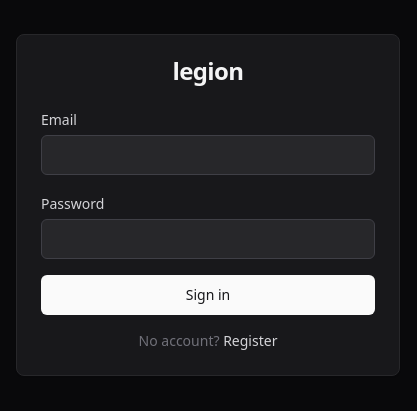
Test: Login – error handling › re-enables button after error
The image size is (417, 411).
Type "x@x.com" into the field labelled "Email" at (208, 155), box [41,135,375,175]
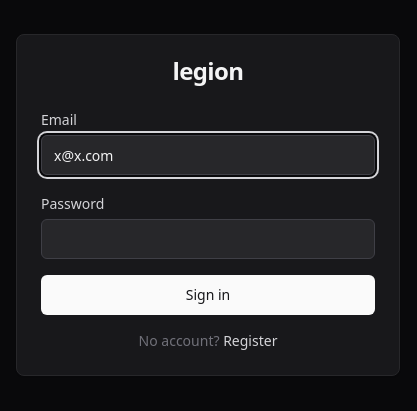
Type "wrong" into the password field labelled "Password" at (208, 239), box [41,219,375,259]
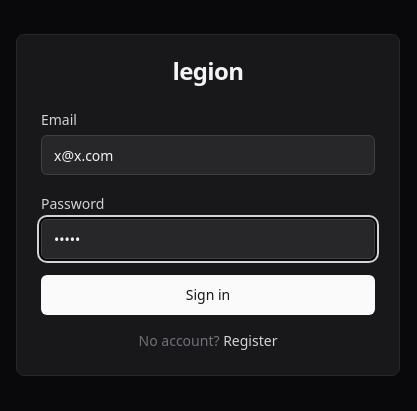
Submit the form "Email Password Sign in No account? Register", box [41,107,375,351]
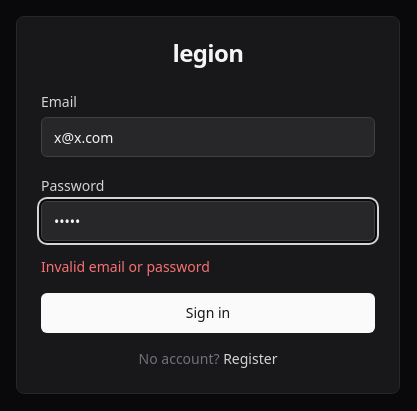
Check: the button "Sign in" is enabled, box [41,293,375,333]
Check: the text "Invalid email or password" is shown, box [41,257,210,276]
